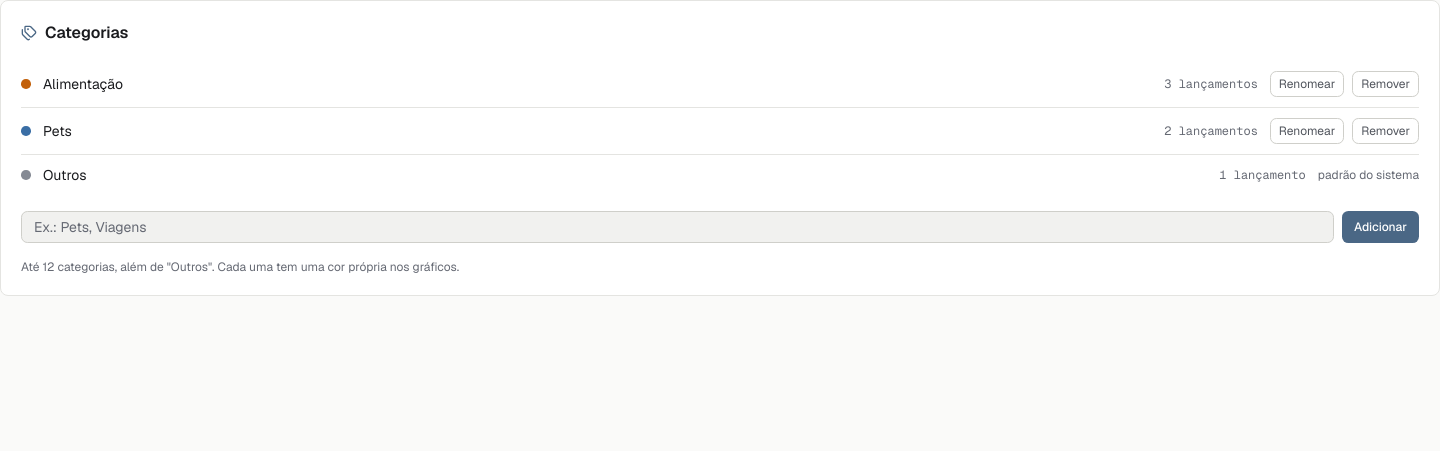
Test: CategoriasSection — remover › cancelar não remove
Click the button with aria-label "Remover Pets" at (1386, 131), box [1352,118,1419,144]
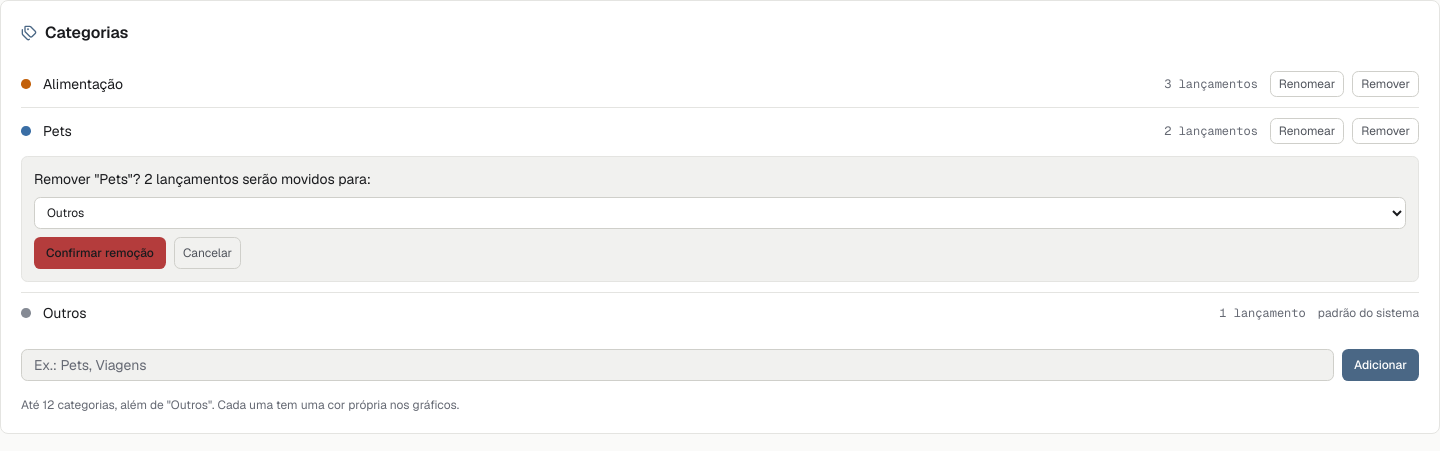
Click the button "Cancelar" at (208, 253), box [174,237,241,269]
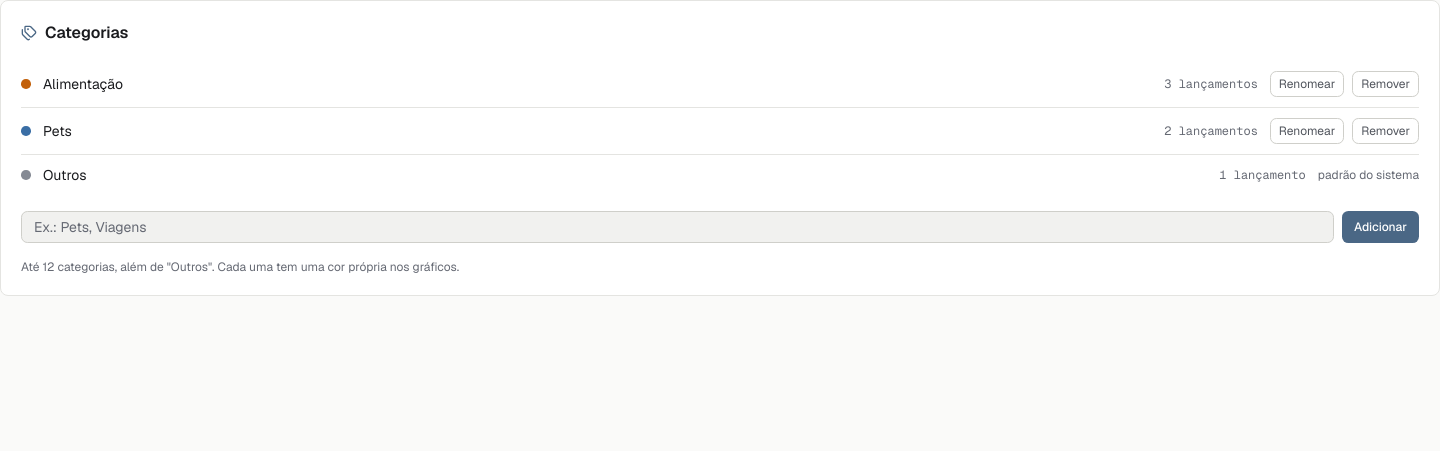
Expected: the button "Confirmar remoção" is gone
